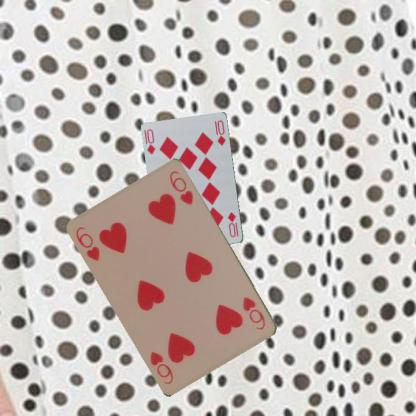10d: (225, 209, 240, 239), (144, 127, 156, 156)
6h: (73, 224, 102, 262), (240, 294, 267, 332)
